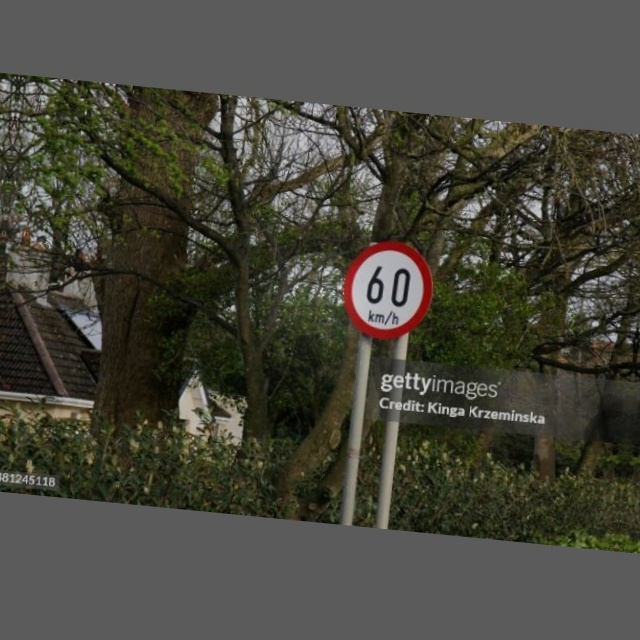Speed_Limit_60: (334, 235, 435, 348)
